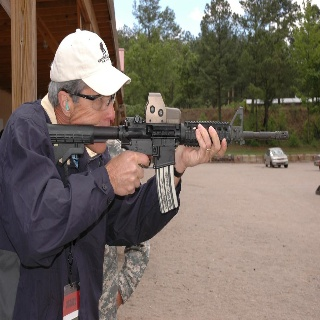rifle: (44, 91, 291, 214)
